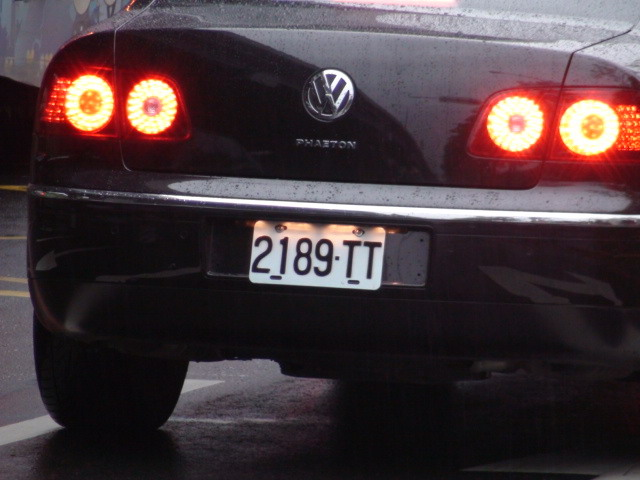plate: (244, 216, 388, 293)
